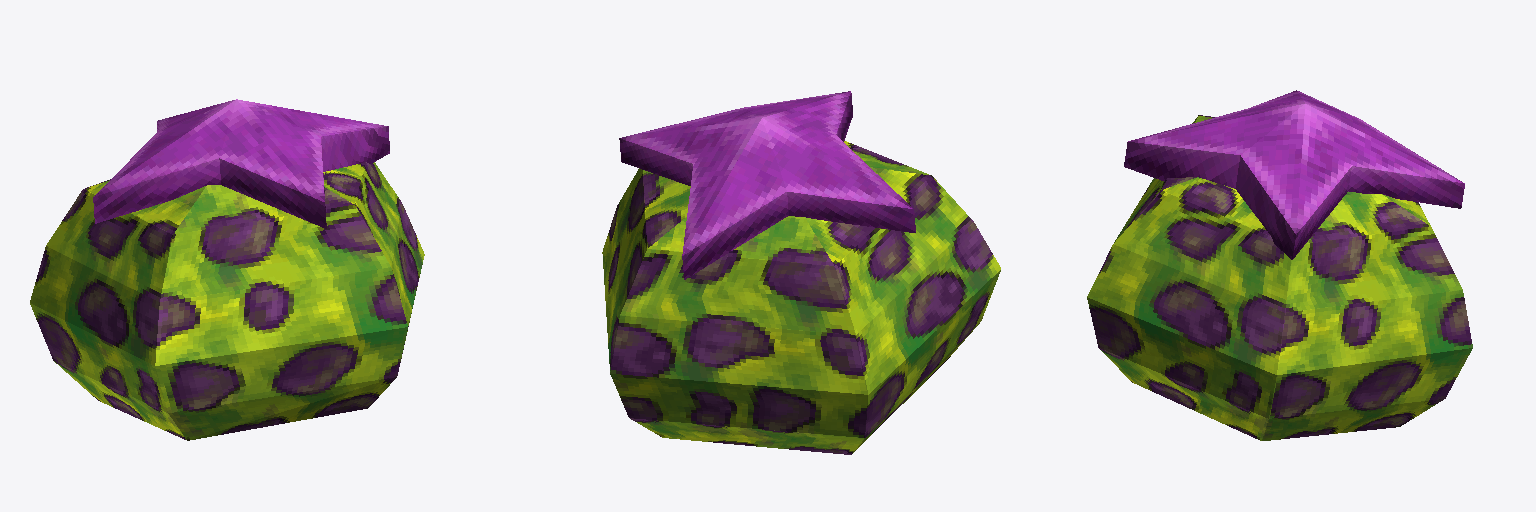
3 renders of one model, left to right at view 1: azimuth 30°, elevation 25°; view 2: azimuth 150°, elevation 25°; view 3: azimuth 270°, elevation 25°, orthographic.
Visible parts, largest first — view 1: Mesh_0049.rip, Mesh_0050.rip; view 2: Mesh_0049.rip, Mesh_0050.rip; view 3: Mesh_0049.rip, Mesh_0050.rip.
Boxes of the visible parts, x1=… form: Mesh_0049.rip: x1=30, y1=162, x2=424, y2=440; Mesh_0050.rip: x1=93, y1=99, x2=389, y2=228; Mesh_0049.rip: x1=602, y1=141, x2=1000, y2=454; Mesh_0050.rip: x1=619, y1=91, x2=915, y2=279; Mesh_0049.rip: x1=1087, y1=115, x2=1472, y2=440; Mesh_0050.rip: x1=1124, y1=90, x2=1464, y2=259.
Bounding box in the file's own units: 3.79 × 3.23 × 3.79.
Materials: 2 (2 with a texture image).